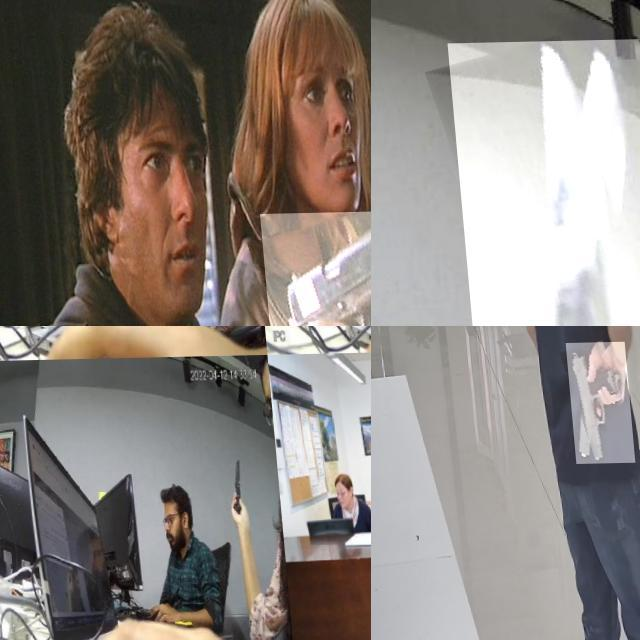-: (444, 41, 640, 326), (220, 455, 238, 516), (138, 326, 167, 352)
gun-knife-thesis - v11 Yolov5 augmented: (254, 212, 371, 326), (560, 344, 627, 466)
